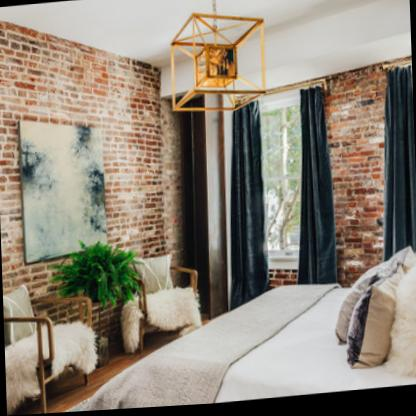Curtains: (229, 103, 269, 313), (297, 89, 335, 290), (384, 71, 416, 267)
Frame: (19, 121, 107, 264)
